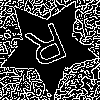R: (24, 21, 74, 77)
